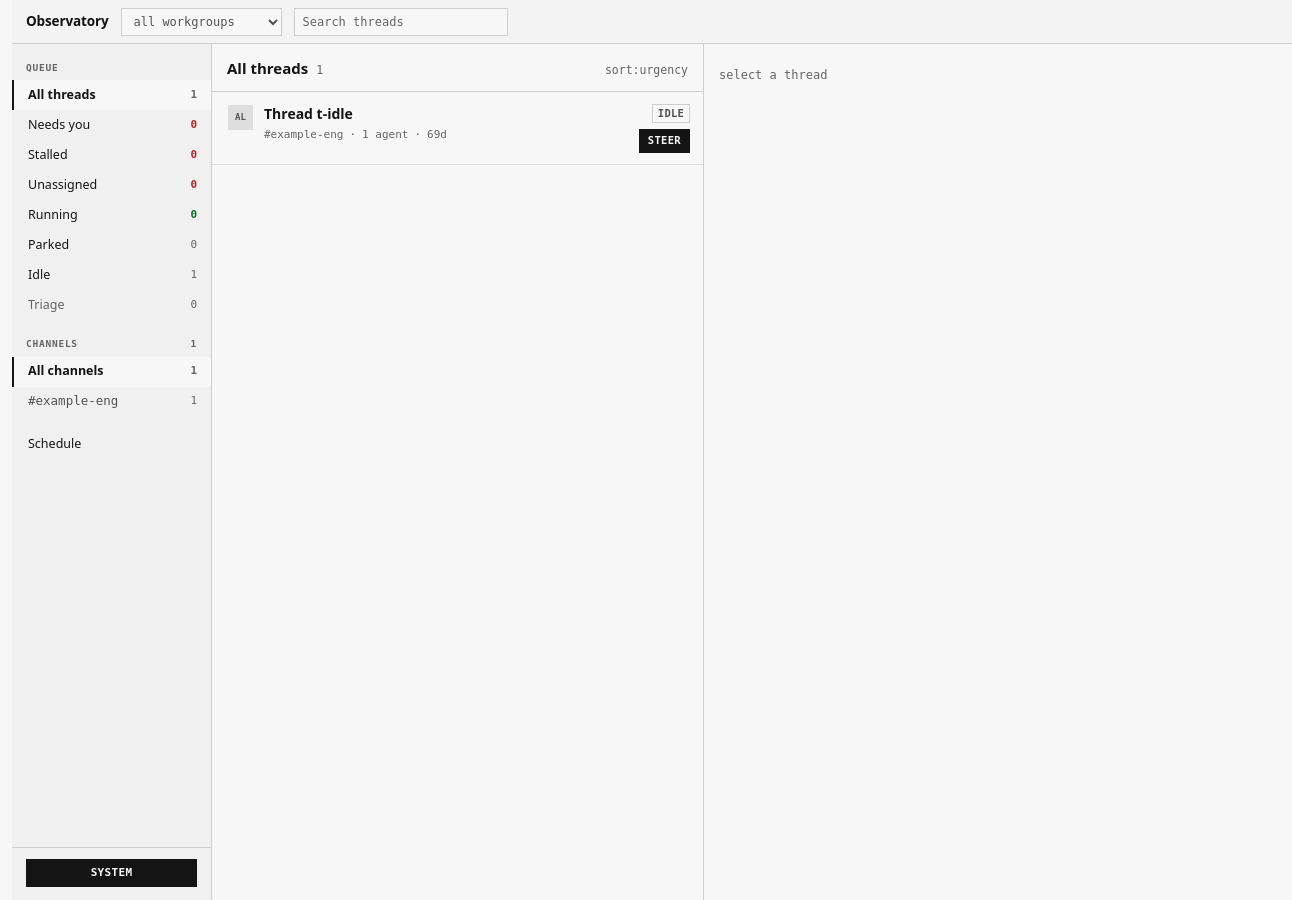
Scenario: closing a thread — the real thing, not the old Dismiss › cancel backs out of the second act without ever sending it
Click the button with class "ncc-row-main" at (428, 126), box [228, 104, 628, 148]
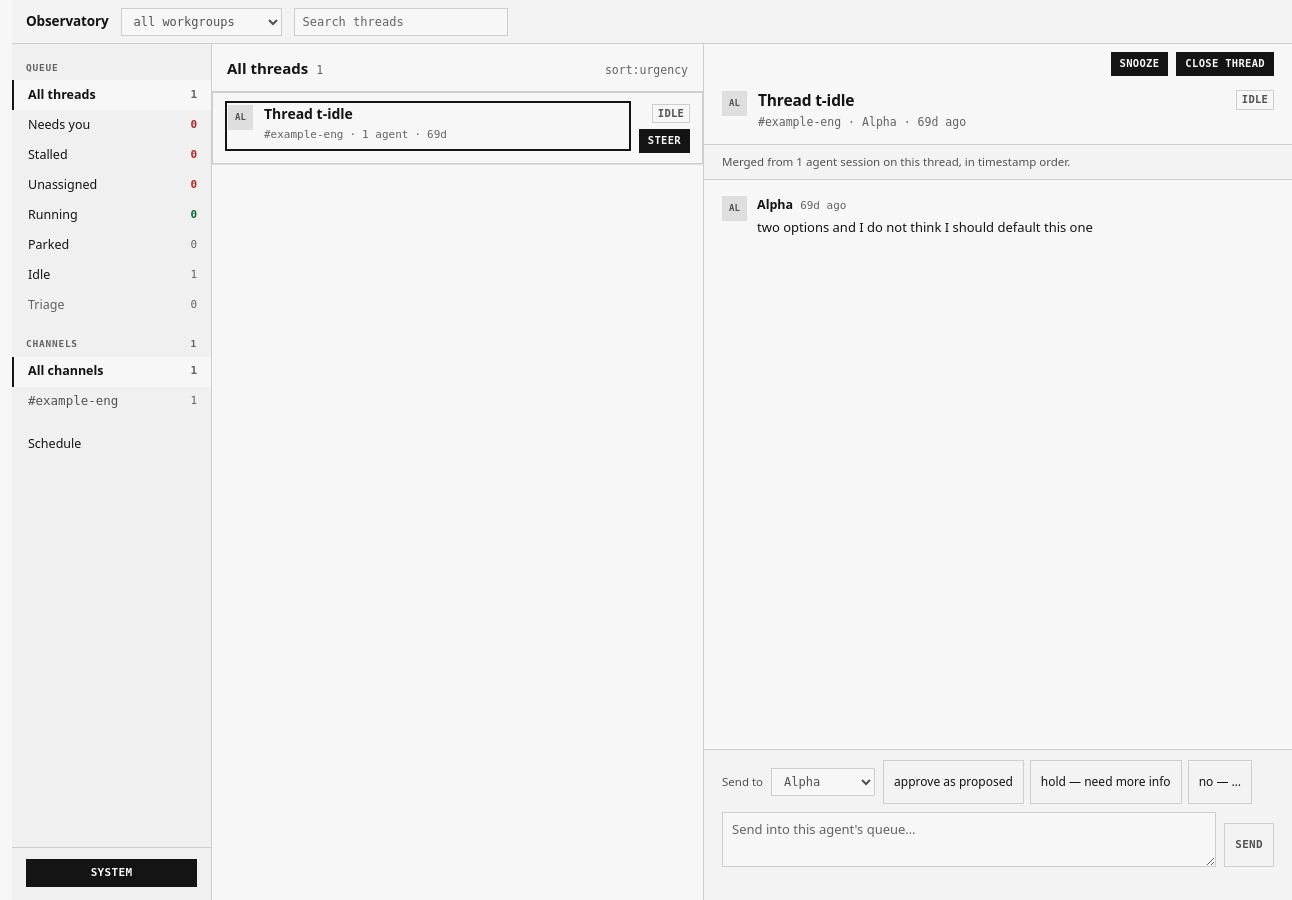
Expected: the button "snooze" is shown, [1110, 52, 1168, 76]
Click the button "close thread" at (1225, 64), box [1176, 52, 1274, 76]
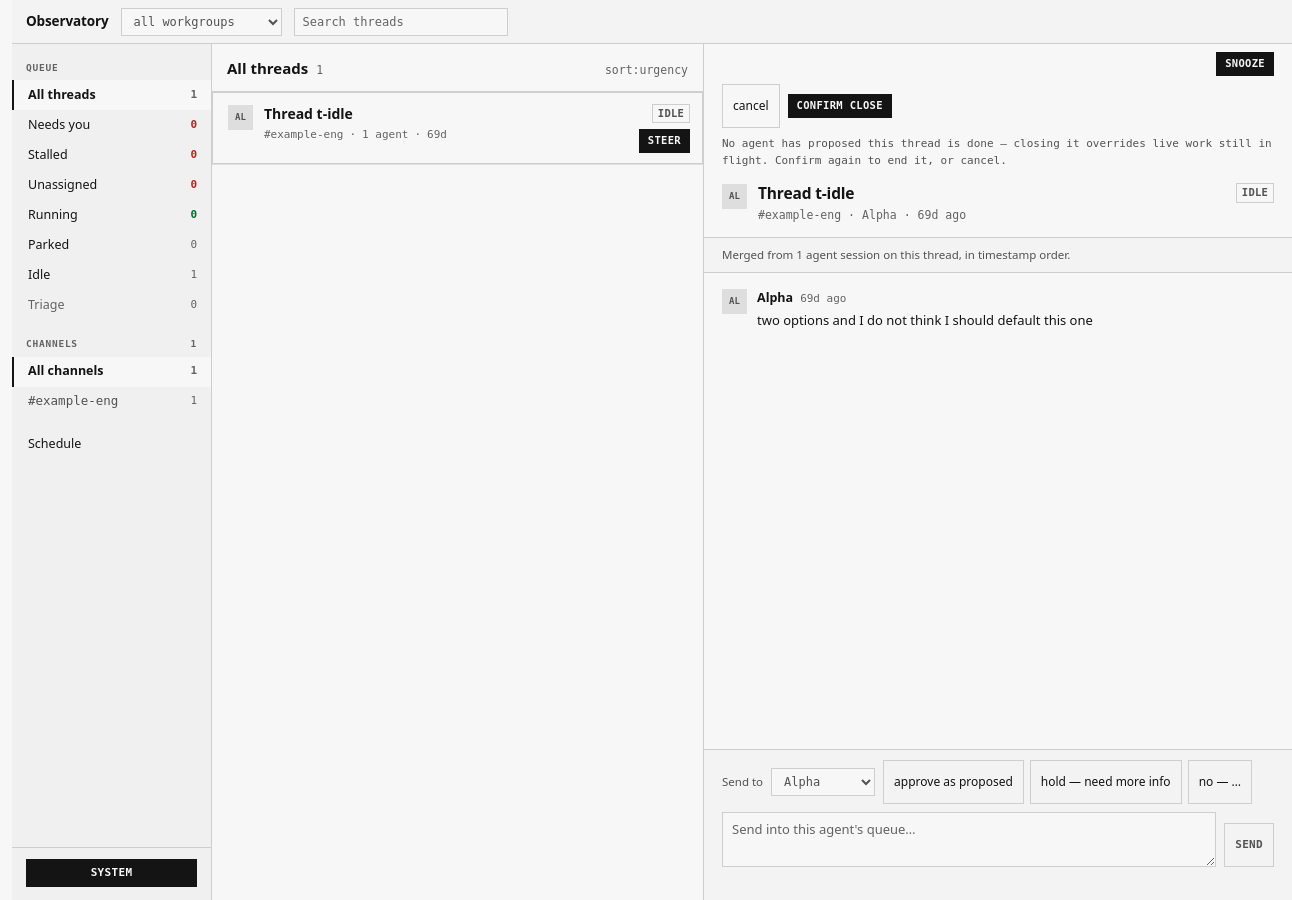
Expected: the button "cancel" is shown
Click the button "cancel" at (751, 106), box [722, 84, 780, 128]
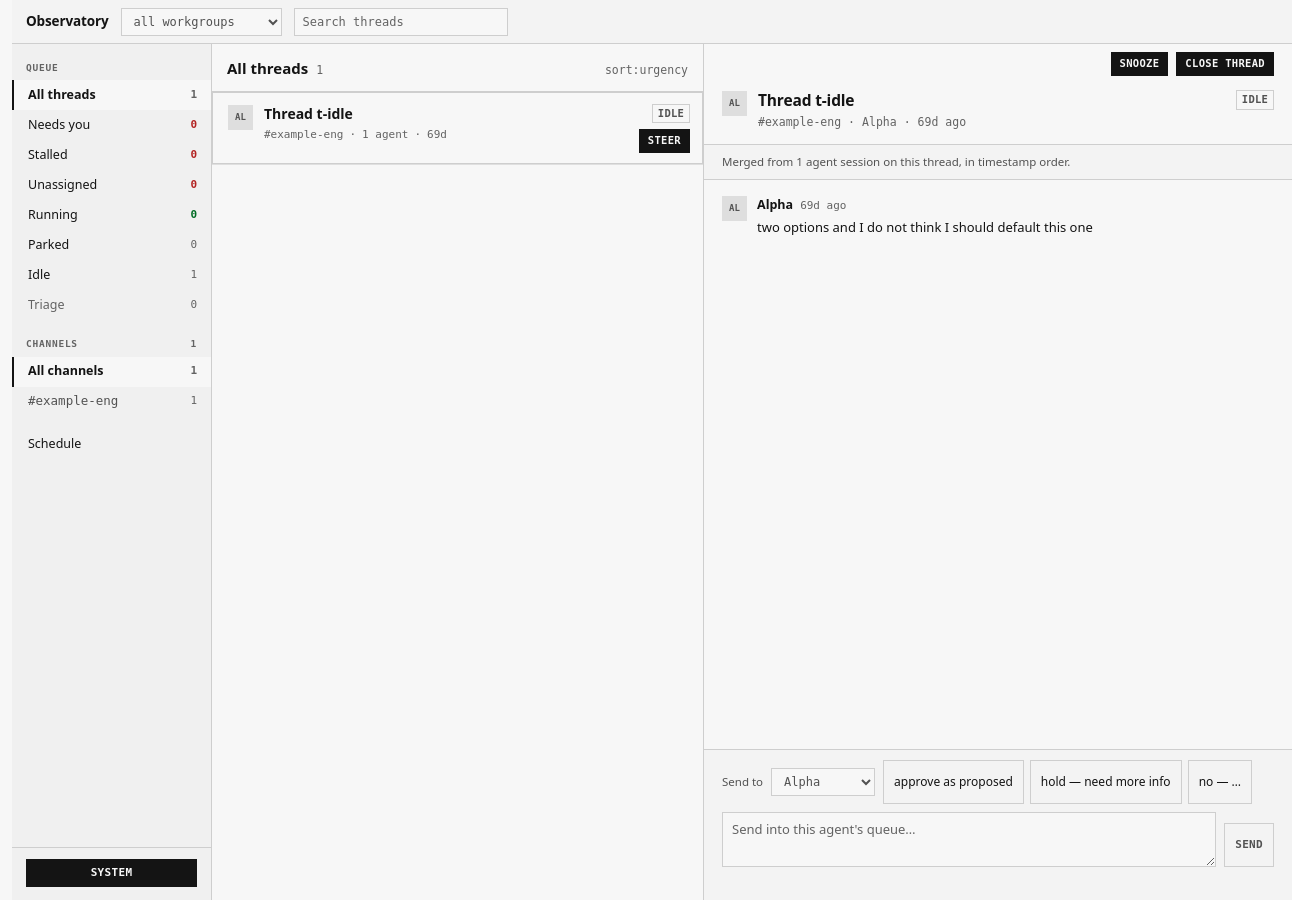
Expected: the button "confirm close" is gone
Expected: the button "close thread" is shown, [1176, 52, 1274, 76]
